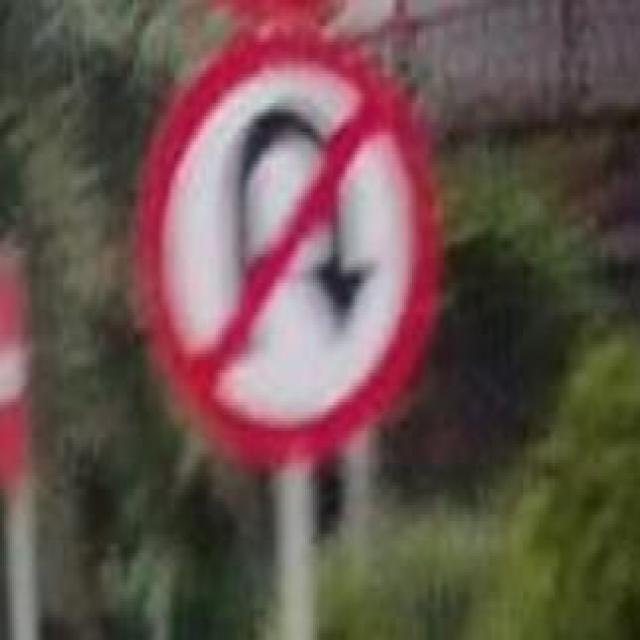traffic sign: (141, 32, 430, 453)
